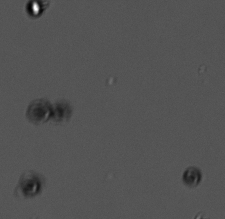Dead Cell: (27, 100, 50, 124), (19, 174, 40, 198), (51, 99, 70, 122), (183, 167, 202, 188)
Living Cell: (24, 1, 44, 19)
